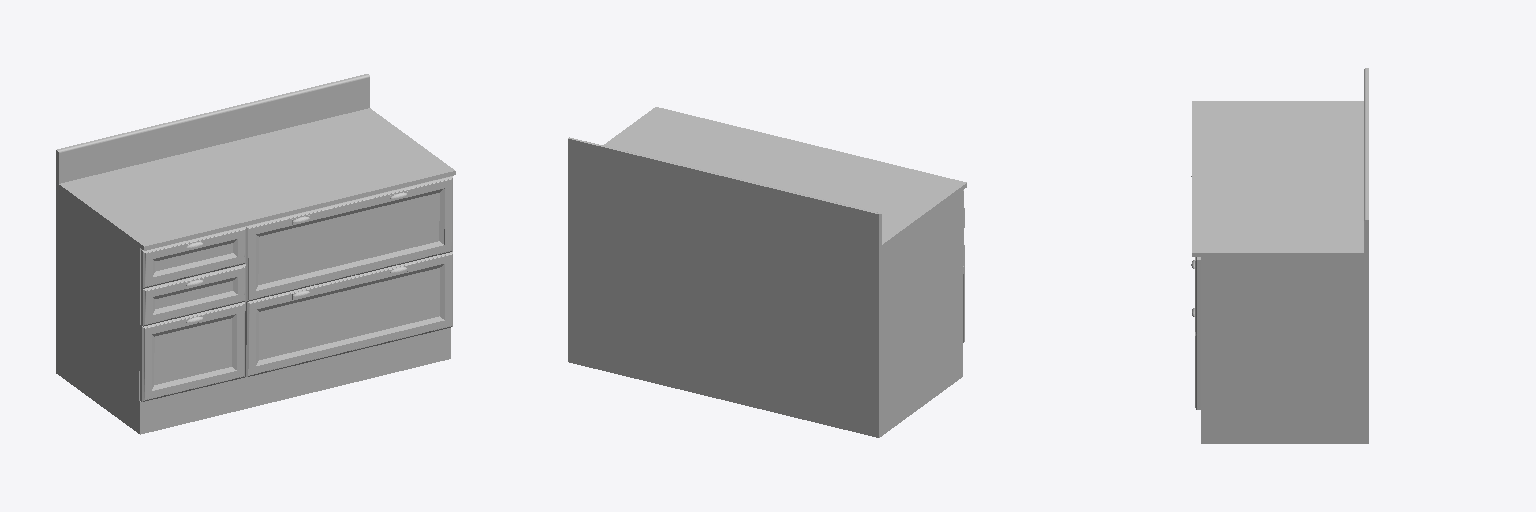
File: kitchen_counter.obj
3 renders of one model, left to right at view 1: azimuth 30°, elevation 25°; view 2: azimuth 150°, elevation 25°; view 3: azimuth 270°, elevation 25°, orthographic.
Visible parts, largest first — view 1: Object030_Mesh.482, Box033_Mesh.480, Object012_Mesh.476, Object013_Mesh.477, Object014_Mesh.479, Object016_Mesh.481, Object015_Mesh.478; view 2: Box033_Mesh.480, Object030_Mesh.482; view 3: Box033_Mesh.480, Object030_Mesh.482.
Boxes of the visible parts, x1=… form: Object030_Mesh.482: x1=56, y1=78, x2=455, y2=250; Box033_Mesh.480: x1=56, y1=74, x2=450, y2=434; Object012_Mesh.476: x1=246, y1=176, x2=452, y2=301; Object013_Mesh.477: x1=245, y1=252, x2=452, y2=376; Object014_Mesh.479: x1=139, y1=302, x2=245, y2=401; Object016_Mesh.481: x1=140, y1=264, x2=245, y2=326; Object015_Mesh.478: x1=140, y1=226, x2=245, y2=288; Box033_Mesh.480: x1=568, y1=137, x2=962, y2=437; Object030_Mesh.482: x1=603, y1=107, x2=966, y2=250; Box033_Mesh.480: x1=1201, y1=68, x2=1368, y2=443; Object030_Mesh.482: x1=1192, y1=101, x2=1368, y2=256.
Bounding box in the file's own units: 3.85 × 2.64 × 1.89.